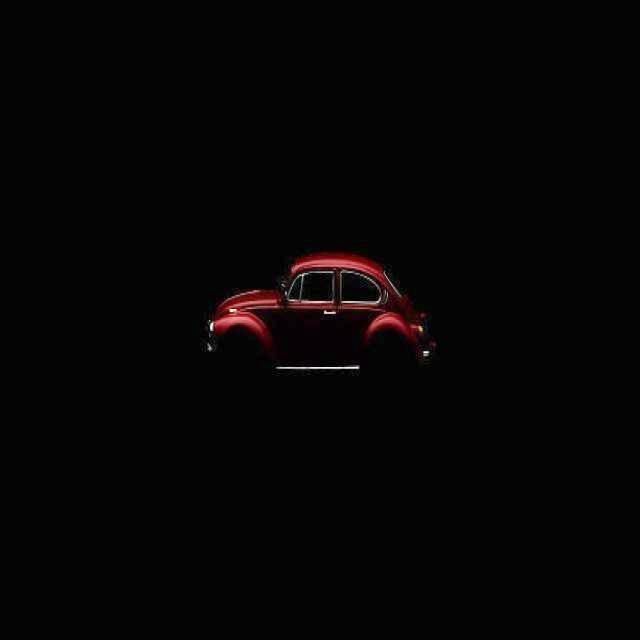car: (211, 259, 438, 393)
